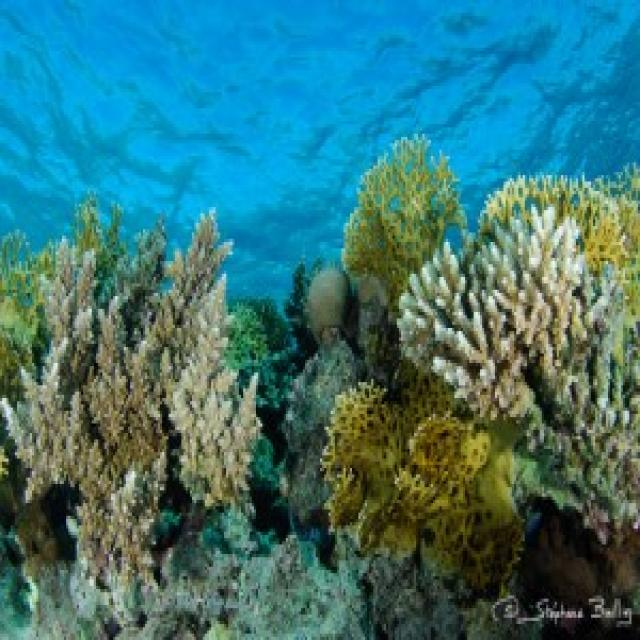Healthy: (7, 214, 231, 619), (400, 205, 639, 520), (321, 374, 522, 593), (481, 173, 639, 326), (344, 135, 464, 310), (172, 275, 259, 507), (1, 233, 44, 396)
